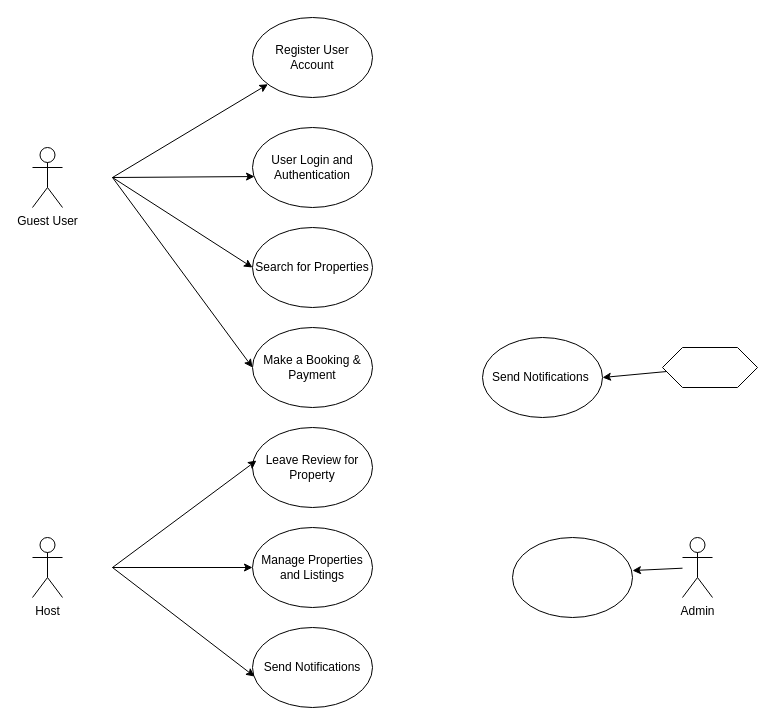
The diagram is 775 pixels wide and 725 high, and some of its shapes have lost their labels. Here are the shapes that lost their labels. From the top down, the centre of each, then its label:
point 710,367: Sytem
point 572,577: Manage Reviews
